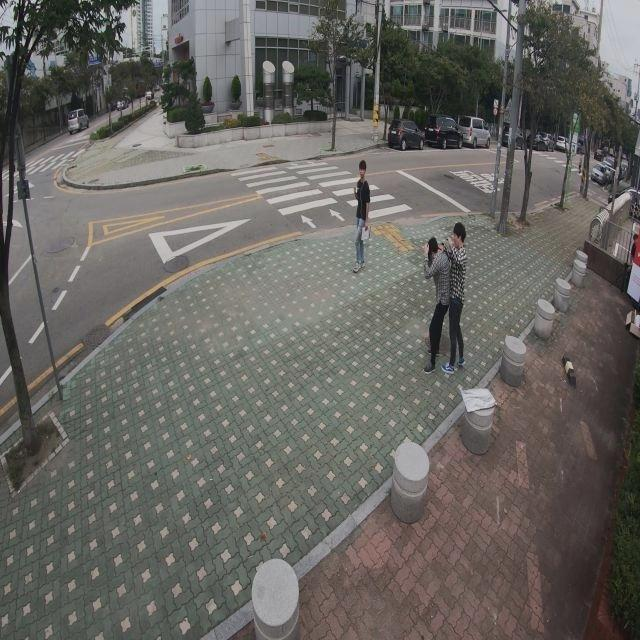fight: (422, 221, 471, 375)
non-fight: (350, 158, 374, 273)
